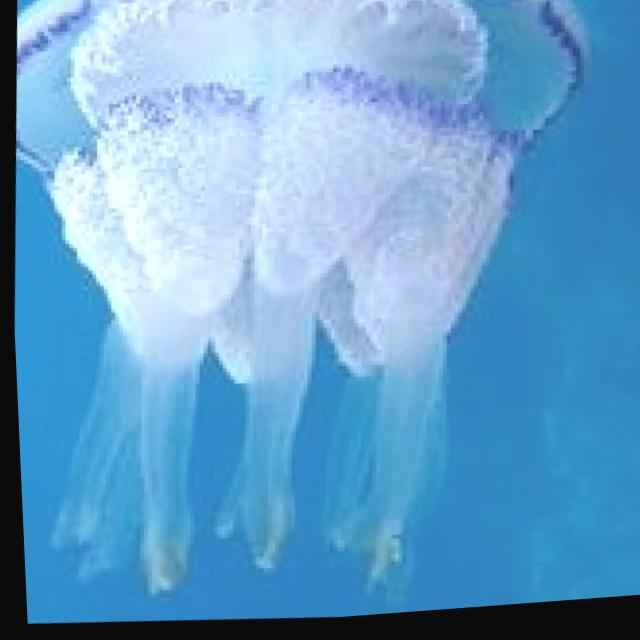Box-jellyfish: (0, 0, 609, 637)
